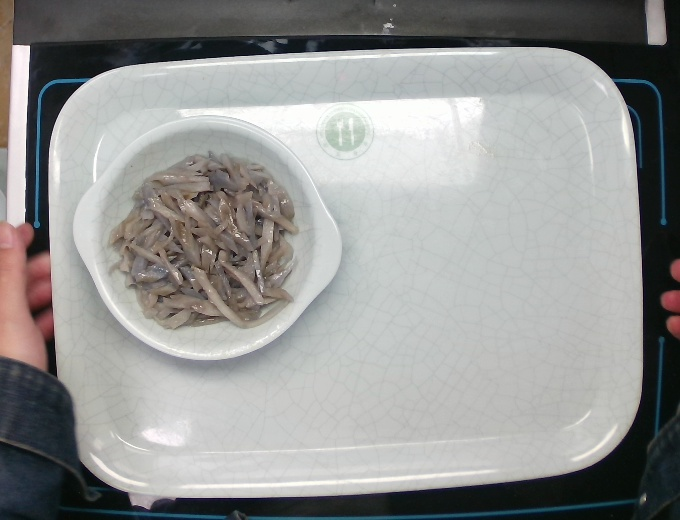JYsf-Shuang_Er_Wan: (70, 112, 345, 364)
